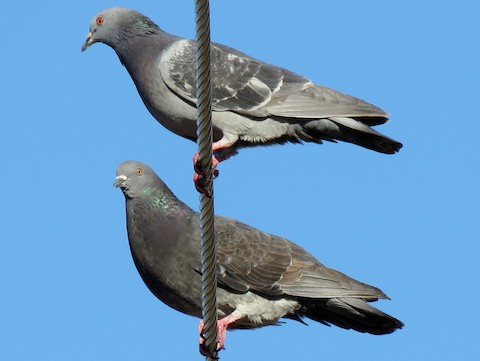pigeon: (97, 159, 411, 356), (78, 5, 417, 186)
